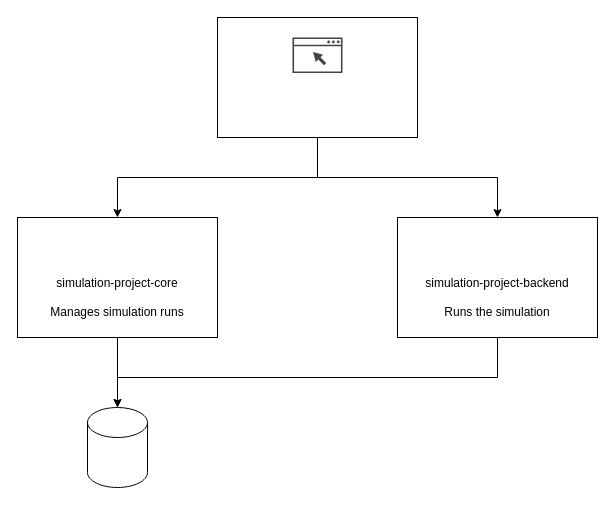
Some shapes in this 615 by 505 pixel diagram are drawn without their labels. Here are the shapes that lost their labels. From the top down, the box of each, then its label:
(216, 16, 418, 138): simulation-project-frontend Front end
(86, 406, 148, 488): Database
